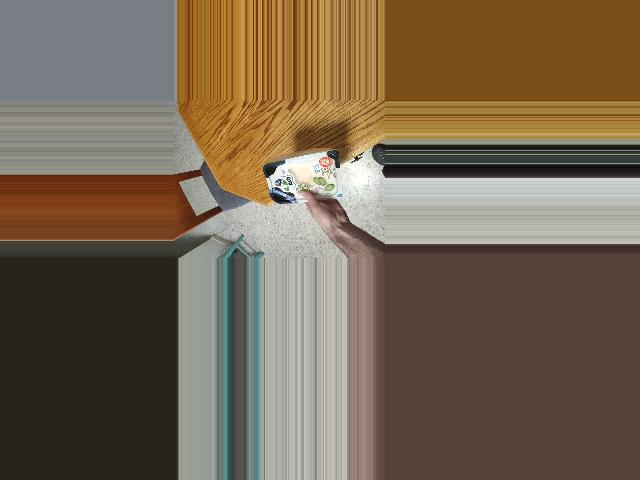cheese: (272, 149, 328, 211)
